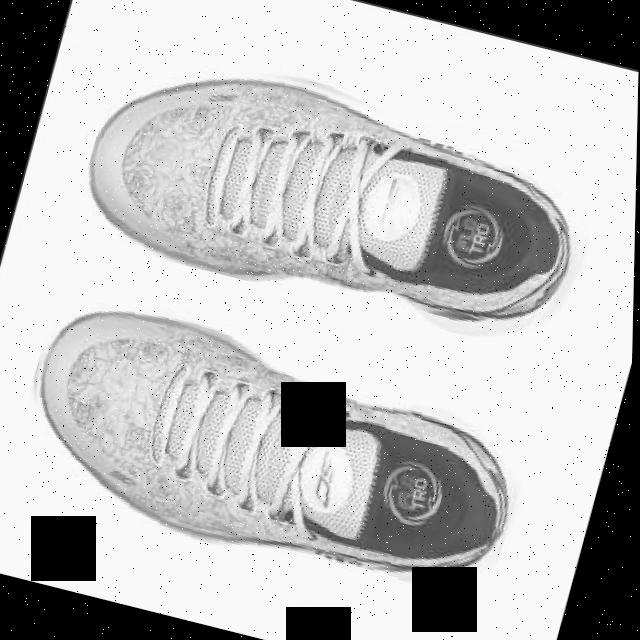shoe: (0, 271, 548, 614), (68, 26, 615, 358)
